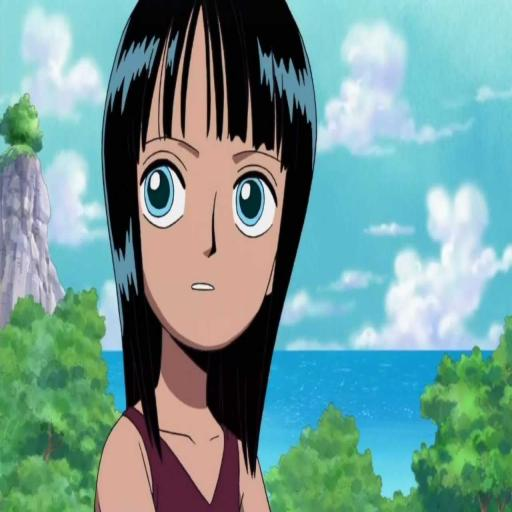NicoRobin: (93, 0, 318, 512)
